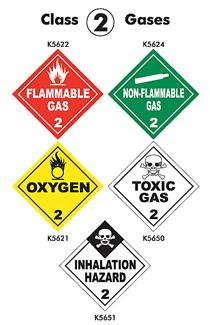flammable: (12, 48, 105, 144)
non-flammable-gas: (111, 52, 200, 142)
oxidizer: (16, 146, 99, 232)
poison: (59, 226, 150, 310)
